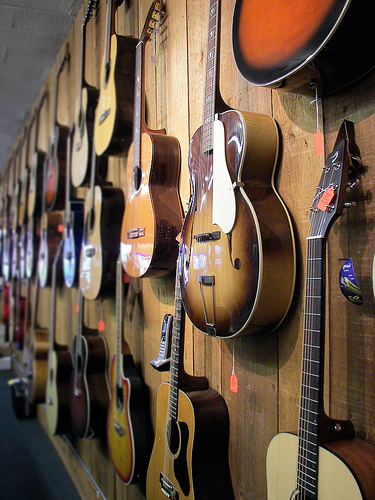guitar: (144, 239, 236, 498), (119, 1, 184, 280), (105, 243, 152, 486), (76, 139, 123, 303), (66, 284, 109, 448), (95, 1, 139, 161), (67, 1, 100, 192), (43, 242, 67, 440)
